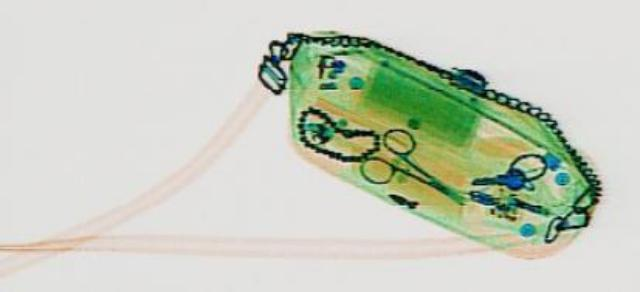Scissors: (314, 123, 502, 211)
